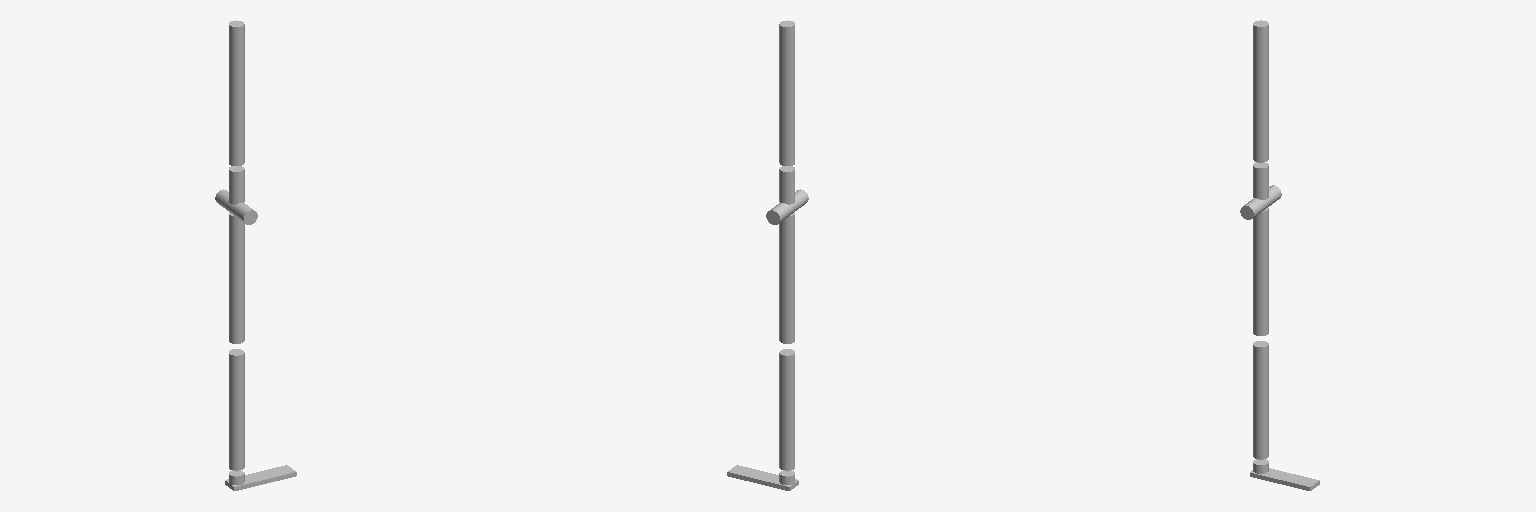
robot.urdf — drc_skeleton:
<?xml version="1.0" encoding="UTF-8"?>
<robot xmlns:xacro="http://www.ros.org/wiki/xacro" name="drc_skeleton">
<!--<robot xmlns="http://drake.mit.edu"-->
 <!--xmlns:xsi="http://www.w3.org/2001/XMLSchema-instance"-->
 <!--xsi:schemaLocation="http://drake.mit.edu ../../../doc/drakeURDF.xsd" name="hatlas">-->
  <material name="LightGrey">
    <color rgba="0.8 0.8 0.8 1.0"/>
  </material>
  <material name="Grey">
    <color rgba="0.6 0.6 0.6 1.0"/>
  </material>
  <material name="DarkGrey">
    <color rgba="0.3 0.3 0.3 1.0"/>
  </material>
  <material name="Black">
    <color rgba="0.1 0.1 0.1 1.0"/>
  </material>
  <link name="base_link">
    <inertial>
      <origin rpy="0 0 0" xyz="0 0 0"/>
      <mass value="0.01"/>
      <inertia ixx="0.0001" ixy="0.0" ixz="0.0" iyy="0.0001" iyz="0.0" izz="0.0001"/>
    </inertial>
  </link>
  <link name="Back">
    <inertial>
      <origin rpy="0 0 0" xyz="0 0 0"/>
      <mass value="0.98"/>
      <inertia ixx="0.0142307887763" ixy="0.0" ixz="0.0" iyy="0.0142307887763" iyz="0.0" izz="0.0232537942048"/>
    </inertial>
  </link>
  <link name="Pelvis_link1">
    <inertial>
      <origin rpy="0 0 0" xyz="0 0 0"/>
      <mass value="2.85"/>
      <inertia ixx="0.0167937478046" ixy="0.0" ixz="0.0" iyy="0.0130953182366" iyz="0.0" izz="0.0188435137939"/>
    </inertial>
    <visual>
      <origin rpy="0 0 0" xyz="0 0 -0.076245974"/>
      <geometry>
        <cylinder length="0.112491948" radius="0.025"/>
      </geometry>
      <material name="LightGrey"/>
    </visual>
  </link>
  <link name="Pelvis_link2">
    <inertial>
      <origin rpy="0 0 0" xyz="0 0 0"/>
      <mass value="2.85"/>
      <inertia ixx="0.0167937478046" ixy="0.0" ixz="0.0" iyy="0.0188435137939" iyz="0.0" izz="0.0130953182366"/>
    </inertial>
    <visual>
      <origin rpy="1.57079632679 0 0" xyz="0 0 0"/>
      <geometry>
        <cylinder length="0.17784564" radius="0.025"/>
      </geometry>
      <material name="LightGrey"/>
    </visual>
  </link>
  <link name="BackYaw_link">
    <inertial>
      <origin rpy="0 0 0" xyz="0 0 0"/>
      <mass value="0.98"/>
      <inertia ixx="0.0168406694011" ixy="0.0" ixz="0.0" iyy="0.0168406694011" iyz="0.0" izz="0.0284735554544"/>
    </inertial>
  </link>
  <link name="BackPitch_link">
    <inertial>
      <origin rpy="0 0 0" xyz="0 0 0"/>
      <mass value="0.98"/>
      <inertia ixx="0.0391167022824" ixy="0.0" ixz="0.0" iyy="0.0213060832327" iyz="0.0" izz="0.0230184023975"/>
    </inertial>
  </link>
  <link name="BackRoll_link">
    <inertial>
      <origin rpy="0 0 0" xyz="0 0 0"/>
      <mass value="0.98"/>
      <inertia ixx="0.0391167022824" ixy="0.0" ixz="0.0" iyy="0.0213060832327" iyz="0.0" izz="0.0230184023975"/>
    </inertial>
  </link>
  <link name="Torso">
    <inertial>
      <origin rpy="0 0 0" xyz="0 0 0"/>
      <mass value="15.347"/>
      <inertia ixx="0.612575540743" ixy="0.0" ixz="0.0" iyy="0.333657611605" iyz="0.0" izz="0.360472879178"/>
    </inertial>
    <visual>
      <origin rpy="0 0 0" xyz="0.0 0.0 0.23927308"/>
      <geometry>
        <cylinder length="0.47854616" radius="0.025"/>
      </geometry>
      <material name="LightGrey"/>
    </visual>
  </link>
  <link name="RHipYaw_link">
    <inertial>
      <origin rpy="0 0 0" xyz="0 0 0"/>
      <mass value="3.38522222222"/>
      <inertia ixx="0.0670316913245" ixy="0.0" ixz="0.0" iyy="0.0670316913245" iyz="0.0" izz="0.00485710822221"/>
    </inertial>
  </link>
  <link name="RHipPitch_link">
    <inertial>
      <origin rpy="0 0 0" xyz="0 0 0"/>
      <mass value="3.38522222222"/>
      <inertia ixx="0.0670316913245" ixy="0.0" ixz="0.0" iyy="0.0670316913245" iyz="0.0" izz="0.00485710822221"/>
    </inertial>
  </link>
  <link name="RHipRoll_link">
    <inertial>
      <origin rpy="0 0 0" xyz="0 0 0"/>
      <mass value="3.38522222222"/>
      <inertia ixx="0.0670316913245" ixy="0.0" ixz="0.0" iyy="0.0670316913245" iyz="0.0" izz="0.00485710822221"/>
    </inertial>
    <visual>
      <origin rpy="0 0 0" xyz="0.0 0.0 -0.23927308"/>
      <geometry>
        <cylinder length="0.43854616" radius="0.025"/>
      </geometry>
      <material name="LightGrey"/>
    </visual>
  </link>
  <link name="RKneePitch_link">
    <inertial>
      <origin rpy="0 0 0" xyz="0 0 0"/>
      <mass value="5.07783333333"/>
      <inertia ixx="0.0839686075882" ixy="0.0" ixz="0.0" iyy="0.0839686075882" iyz="0.0" izz="0.00728566233332"/>
    </inertial>
    <visual>
      <origin rpy="0 0 0" xyz="0 0 -0.21784564"/>
      <geometry>
        <cylinder length="0.39569128" radius="0.025"/>
      </geometry>
      <material name="LightGrey"/>
    </visual>
  </link>
  <link name="RAnklePitch_link">
    <inertial>
      <origin rpy="0 0 0" xyz="0 0 0"/>
      <mass value="1.0"/>
      <inertia ixx="0.000313145101483" ixy="0.0" ixz="0.0" iyy="0.000313145101483" iyz="0.0" izz="0.0003125"/>
    </inertial>
    <visual>
      <origin rpy="0 0 0" xyz="0 0 -0.021695283"/>
      <geometry>
        <cylinder length="0.043390566" radius="0.025"/>
      </geometry>
      <material name="LightGrey"/>
    </visual>
  </link>
  <link name="RAnkle">
    <inertial>
      <origin rpy="0 0 0" xyz="0 0 0"/>
      <mass value="1.0"/>
      <inertia ixx="0.000313145101483" ixy="0.0" ixz="0.0" iyy="0.000313145101483" iyz="0.0" izz="0.0003125"/>
    </inertial>
  </link>
  <link name="RFoot">
    <inertial>
      <origin rpy="0 0 0" xyz="0 0 0"/>
      <mass value="2.0"/>
      <inertia ixx="0.0006375" ixy="0.0" ixz="0.0" iyy="0.00509955043915" iyz="0.0" izz="0.00566205043915"/>
    </inertial>
    <visual>
      <origin rpy="0 0 0" xyz="0.087138256 0 0.0075"/>
      <geometry>
        <box size="0.224276512 0.06 0.015"/>
      </geometry>
      <material name="LightGrey"/>
    </visual>
    <collision>
      <origin rpy="0 0 0" xyz="-0.025 0.3 0"/>
      <geometry>
        <sphere radius="0"/>
      </geometry>
    </collision>
    <collision>
      <origin rpy="0 0 0" xyz="-0.025 -0.3 0"/>
      <geometry>
        <sphere radius="0"/>
      </geometry>
    </collision>
    <collision>
      <origin rpy="0 0 0" xyz="0.199276512 -0.3 0"/>
      <geometry>
        <sphere radius="0"/>
      </geometry>
    </collision>
    <collision>
      <origin rpy="0 0 0" xyz="0.199276512 0.3 0"/>
      <geometry>
        <sphere radius="0"/>
      </geometry>
    </collision>
  </link>
  <joint name="base_joint" type="fixed">
    <child link="Back"/>
    <parent link="base_link"/>
    <origin rpy="0 0 0" xyz="0 0 0"/>
  </joint>
  <joint name="BackYaw" type="revolute">
    <parent link="Back"/>
    <child link="BackYaw_link"/>
    <origin rpy="0 0 0" xyz="0 0 0.0"/>
    <axis xyz="0 0 1"/>
    <limit effort="110" lower="-0.78539816295" upper="0.78539816295" velocity="3"/>
    <dynamics damping="1" friction="10"/>
  </joint>
  <transmission name="BackYaw_trans" type="SimpleTransmission">
    <actuator name="BackYawTorque"/>
    <joint name="BackYaw"/>
    <mechanicalReduction>1</mechanicalReduction>
  </transmission>
  <joint name="BackPitch" type="revolute">
    <parent link="BackYaw_link"/>
    <child link="BackPitch_link"/>
    <origin rpy="0 0 0" xyz="0 0 0"/>
    <axis xyz="0 1 0"/>
    <limit effort="180" lower="-0." upper="0.43633231275" velocity="3"/>
    <dynamics damping="1" friction="10"/>
  </joint>
  <transmission name="BackPitch_trans" type="SimpleTransmission">
    <actuator name="BackPitchTorque"/>
    <joint name="BackPitch"/>
    <mechanicalReduction>1</mechanicalReduction>
  </transmission>
  <joint name="BackRoll" type="revolute">
    <parent link="BackPitch_link"/>
    <child link="BackRoll_link"/>
    <origin rpy="0 0 0" xyz="0 0 0"/>
    <axis xyz="1 0 0"/>
    <limit effort="100" lower="-0.6981317004" upper="0.6981317004" velocity="3"/>
    <dynamics damping="1" friction="10"/>
  </joint>
  <transmission name="BackRoll_trans" type="SimpleTransmission">
    <actuator name="BackRollTorque"/>
    <joint name="BackRoll"/>
    <mechanicalReduction>1</mechanicalReduction>
  </transmission>
  <joint name="BackRol_Torso_joint" type="fixed">
    <child link="Torso"/>
    <parent link="BackRoll_link"/>
    <origin rpy="0 0 0" xyz="0 0 0"/>
  </joint>
  <joint name="Back_Pelvis_Joint" type="fixed">
    <parent link="Back"/>
    <child link="Pelvis_link1"/>
    <origin rpy="0 0 0" xyz="0 0 0"/>
  </joint>
  <joint name="Mid_Pelvis_Joint" type="fixed">
    <parent link="Pelvis_link1"/>
    <child link="Pelvis_link2"/>
    <origin rpy="0 0 0" xyz="0 0 -0.152491948"/>
  </joint>
  <joint name="RHipYaw" type="revolute">
    <parent link="Pelvis_link2"/>
    <child link="RHipYaw_link"/>
    <origin rpy="0 0 0" xyz="0 0 0"/>
    <axis xyz="0 0 1"/>
    <limit effort="110" lower="-1.2217304757" upper="0.1745329251" velocity="3"/>
    <dynamics damping="1" friction="10"/>
  </joint>
  <transmission name="RHipYaw_trans" type="SimpleTransmission">
    <actuator name="RHipYawTorque"/>
    <joint name="RHipYaw"/>
    <mechanicalReduction>1</mechanicalReduction>
  </transmission>
  <joint name="RHipPitch" type="revolute">
    <parent link="RHipYaw_link"/>
    <child link="RHipPitch_link"/>
    <origin rpy="0 0 0" xyz="0 0 0"/>
    <axis xyz="0 1 0"/>
    <limit effort="260" lower="-1.745329251" upper="0.3490658502" velocity="3"/>
    <dynamics damping="1" friction="10"/>
  </joint>
  <transmission name="RHipPitch_trans" type="SimpleTransmission">
    <actuator name="RHipPitchTorque"/>
    <joint name="RHipPitch"/>
    <mechanicalReduction>1</mechanicalReduction>
  </transmission>
  <joint name="RHipRoll" type="revolute">
    <parent link="RHipPitch_link"/>
    <child link="RHipRoll_link"/>
    <origin rpy="0 0 0" xyz="0 0 0"/>
    <axis xyz="1 0 0"/>
    <limit effort="180" lower="-0.3490658502" upper="0.3490658502" velocity="3"/>
    <dynamics damping="1" friction="10"/>
  </joint>
  <transmission name="RHipRoll_trans" type="SimpleTransmission">
    <actuator name="RHipRollTorque"/>
    <joint name="RHipRoll"/>
    <mechanicalReduction>1</mechanicalReduction>
  </transmission>
  <joint name="RKneePitch" type="revolute">
    <parent link="RHipRoll_link"/>
    <child link="RKneePitch_link"/>
    <origin rpy="0 0 0" xyz="0 0 -0.47854616"/>
    <axis xyz="0 1 0"/>
    <limit effort="220" lower="0.0" upper="2.35619448885" velocity="3"/>
    <dynamics damping="1" friction="10"/>
  </joint>
  <transmission name="RKneePitch_trans" type="SimpleTransmission">
    <actuator name="RKneePitchTorque"/>
    <joint name="RKneePitch"/>
    <mechanicalReduction>1</mechanicalReduction>
  </transmission>
  <joint name="RAnklePitch" type="revolute">
    <parent link="RKneePitch_link"/>
    <child link="RAnklePitch_link"/>
    <origin rpy="0 0 0" xyz="0 0 -0.43569128"/>
    <axis xyz="0 1 0"/>
    <limit effort="220" lower="-0.6981317004" upper="0.6981317004" velocity="3"/>
    <dynamics damping="1" friction="10"/>
  </joint>
  <transmission name="RAnklePitch_trans" type="SimpleTransmission">
    <actuator name="RAnklePitchTorque"/>
    <joint name="RAnklePitch"/>
    <mechanicalReduction>1</mechanicalReduction>
  </transmission>
  <joint name="RAnkle_joint" type="fixed">
    <parent link="RAnklePitch_link"/>
    <child link="RAnkle"/>
    <origin xyz="0 0 0"/>
  </joint>
  <joint name="RFoot_joint" type="fixed">
    <parent link="RAnklePitch_link"/>
    <child link="RFoot"/>
    <origin xyz="0 0 -0.04519"/>
  </joint>
</robot>

--- Render facts (derived) ---
3 views of the same robot in one strip: view 1: azimuth 30°, elevation 25°; view 2: azimuth 150°, elevation 25°; view 3: azimuth 330°, elevation 25° (orthographic).
Robot: drc_skeleton — 15 links, 14 joints (8 revolute, 6 fixed); root link base_link; default pose: every joint at zero.
Visible links, largest first — view 1: Torso, RHipRoll_link, RKneePitch_link, RFoot, Pelvis_link2, Pelvis_link1; view 2: Torso, RHipRoll_link, RKneePitch_link, RFoot, Pelvis_link2, Pelvis_link1; view 3: Torso, RHipRoll_link, RKneePitch_link, RFoot, Pelvis_link2, Pelvis_link1.
Link boxes in pixels (<box>): Torso: <box>229,20,244,165</box>; RHipRoll_link: <box>229,212,244,343</box>; RKneePitch_link: <box>229,349,244,470</box>; RFoot: <box>225,465,296,490</box>; Pelvis_link2: <box>215,189,257,224</box>; Pelvis_link1: <box>229,166,244,204</box>; Torso: <box>779,20,794,165</box>; RHipRoll_link: <box>779,212,794,343</box>; RKneePitch_link: <box>779,349,794,470</box>; RFoot: <box>727,465,798,490</box>; Pelvis_link2: <box>766,189,808,224</box>; Pelvis_link1: <box>779,166,794,204</box>; Torso: <box>1253,20,1268,162</box>; RHipRoll_link: <box>1253,208,1268,335</box>; RKneePitch_link: <box>1253,341,1268,459</box>; RFoot: <box>1250,468,1319,490</box>; Pelvis_link2: <box>1240,185,1281,219</box>; Pelvis_link1: <box>1253,162,1268,199</box>.
Size in the robot's own frame: 0.2243 by 0.1778 by 1.59 metres.
Geometry: primitives only (box / cylinder / sphere), no mesh files.
